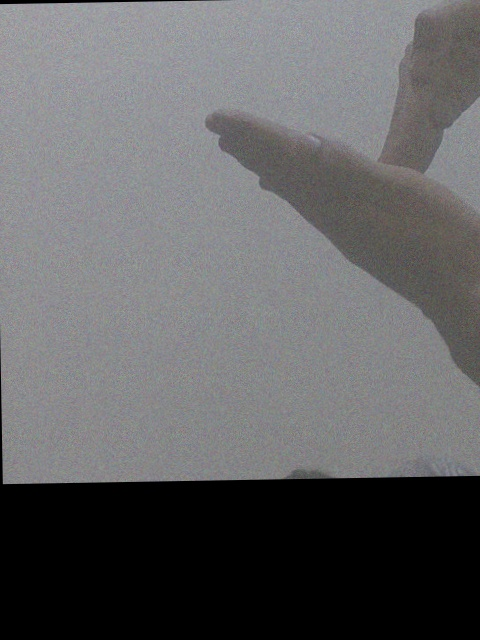hand: (201, 104, 480, 373), (376, 1, 480, 167)
